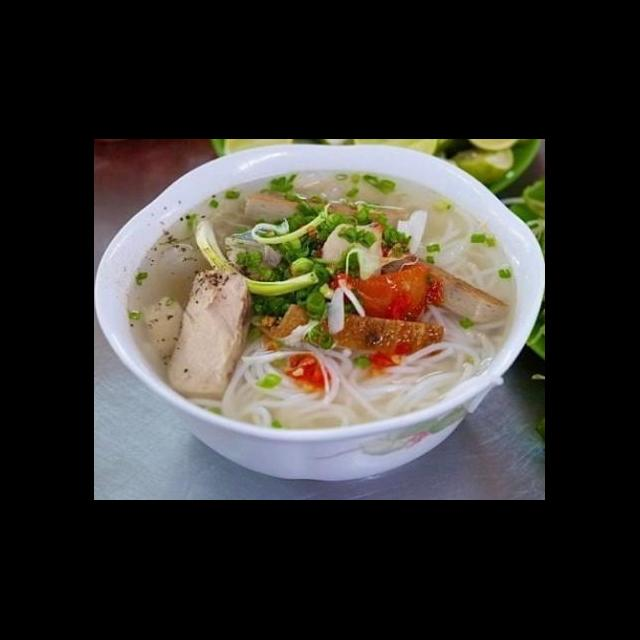bun: (216, 334, 499, 434), (416, 196, 518, 298)
ca: (158, 262, 255, 406)
